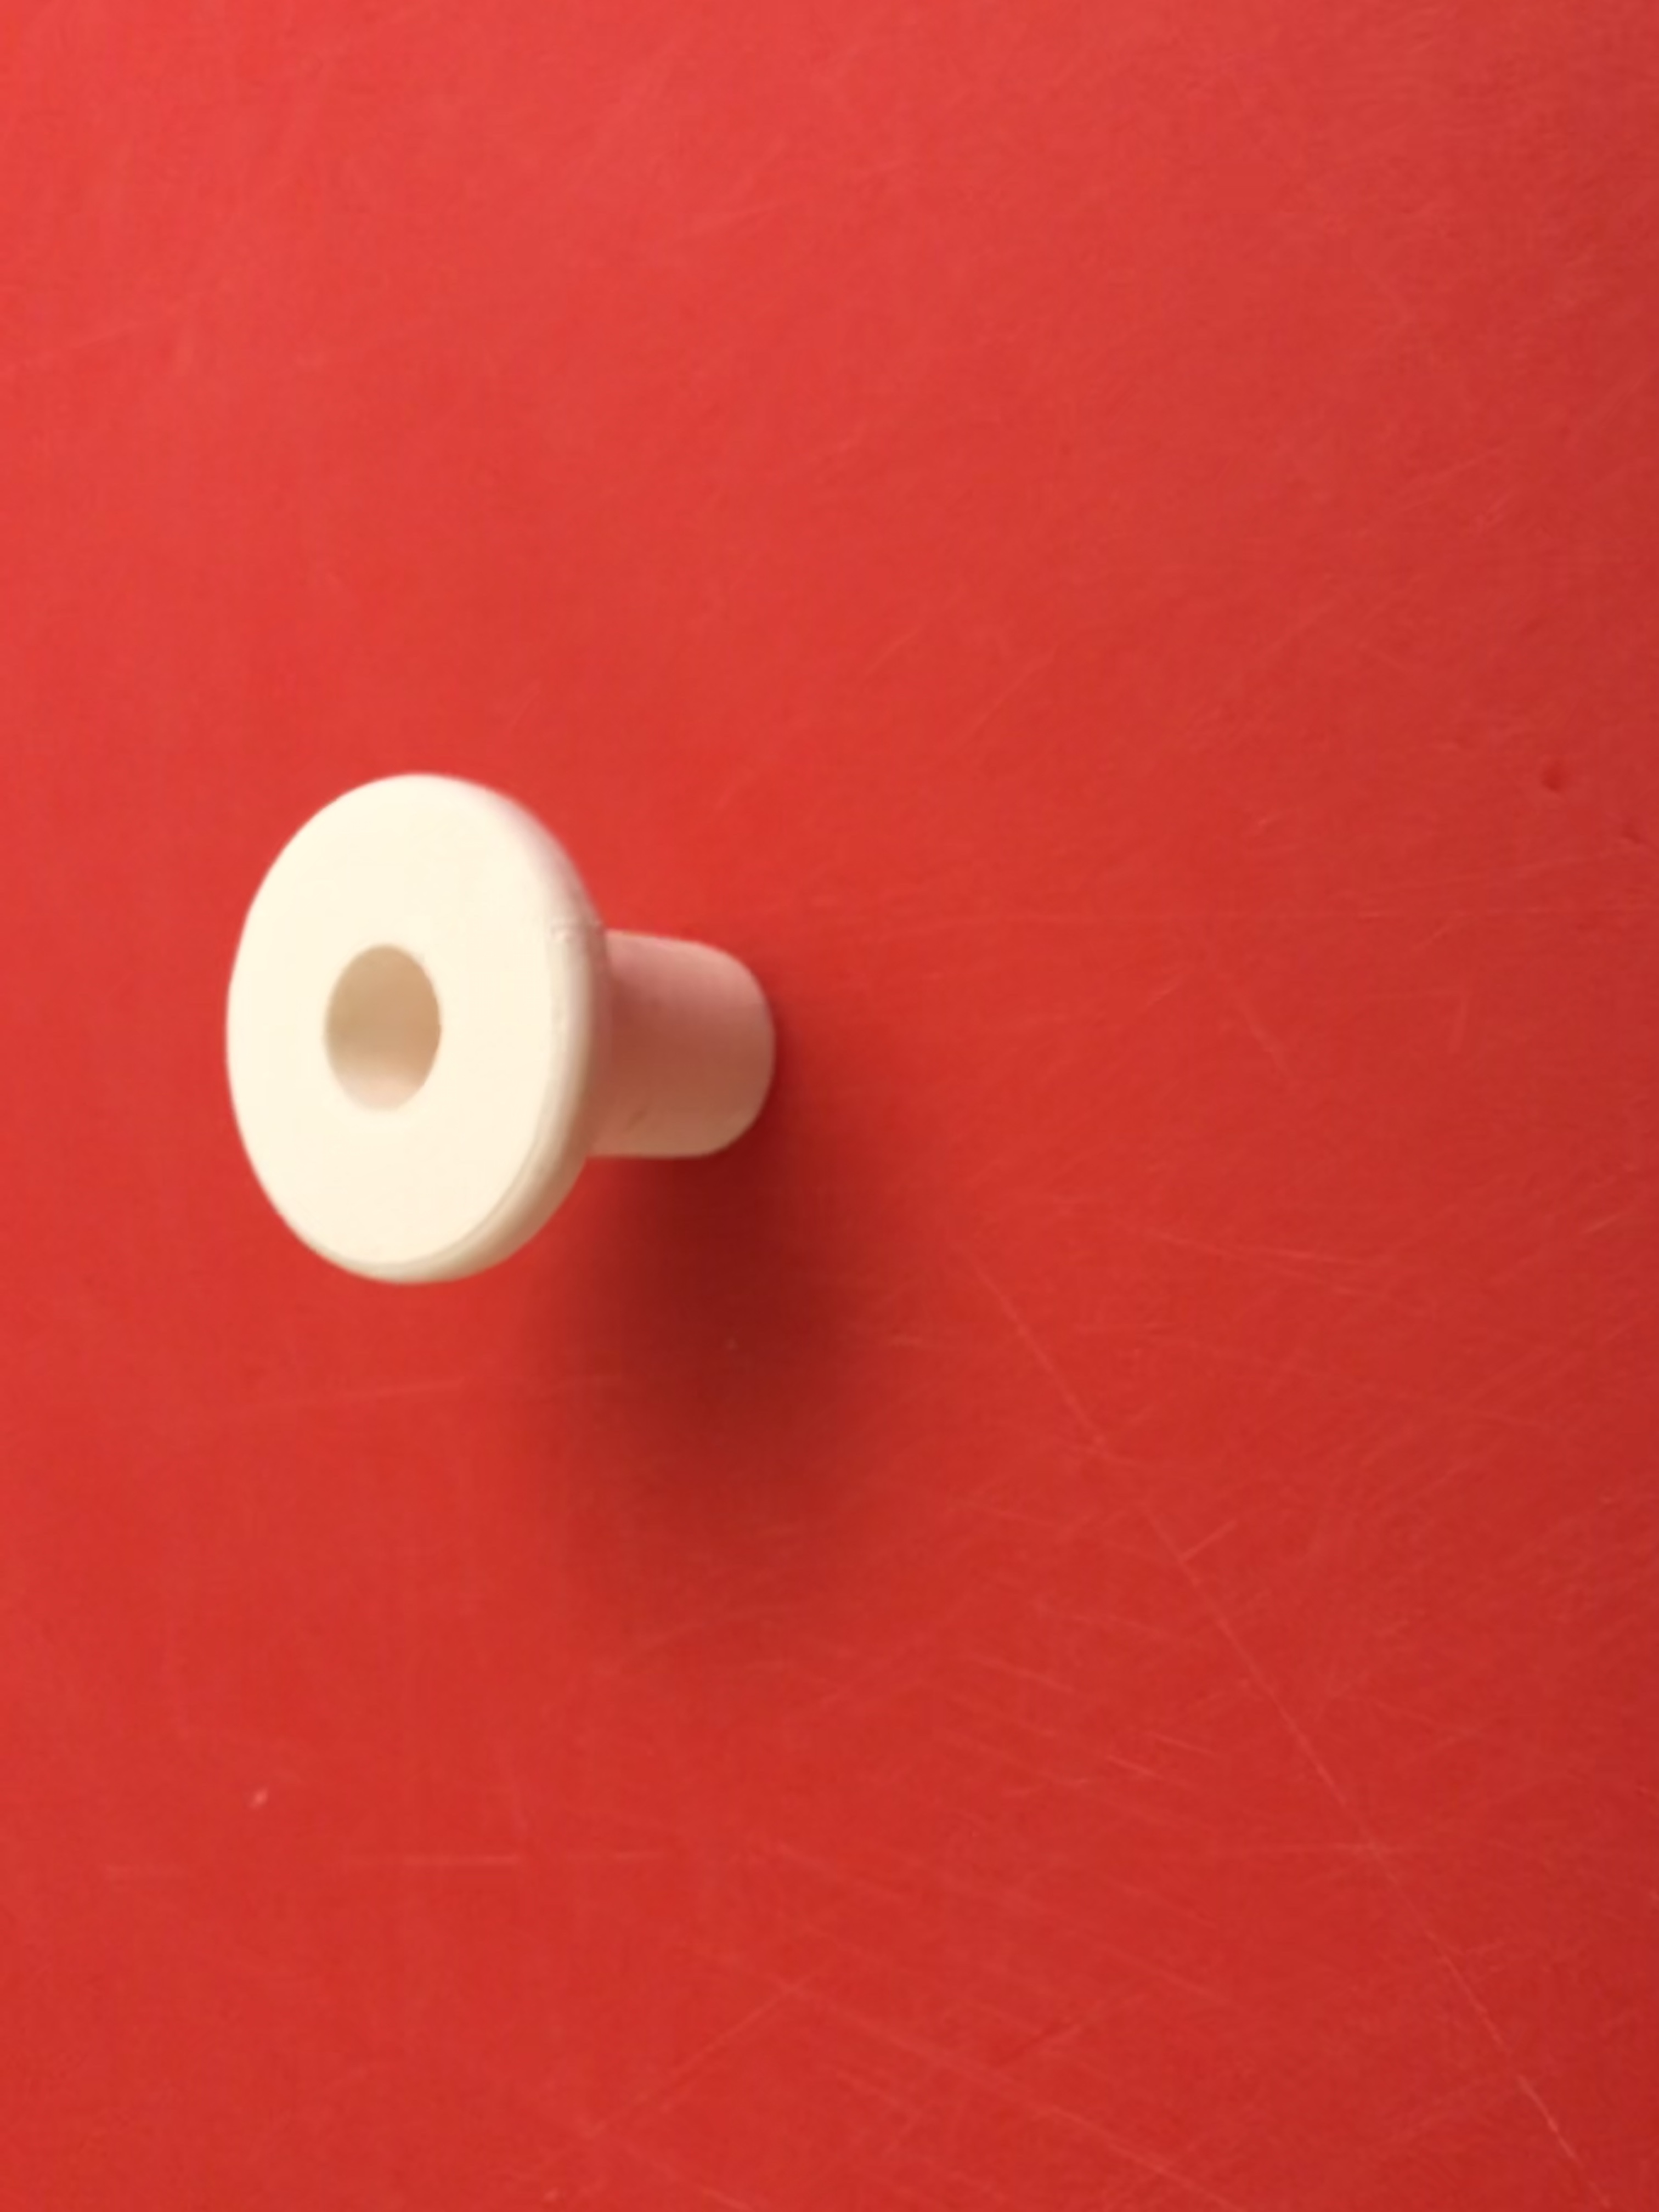Wheel: (211, 772, 784, 1308)
